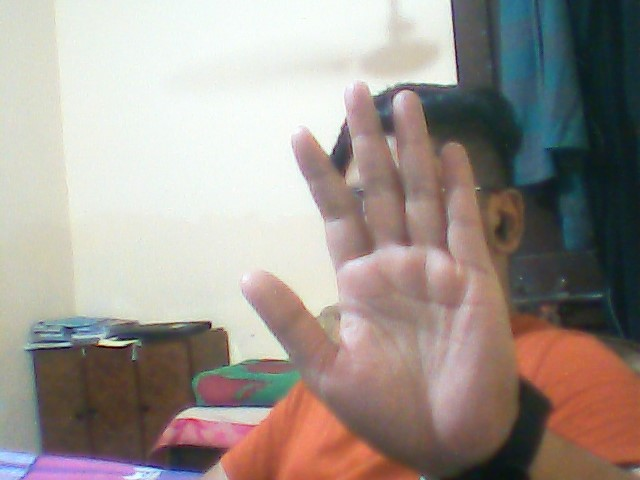Hello: (237, 75, 531, 480)
